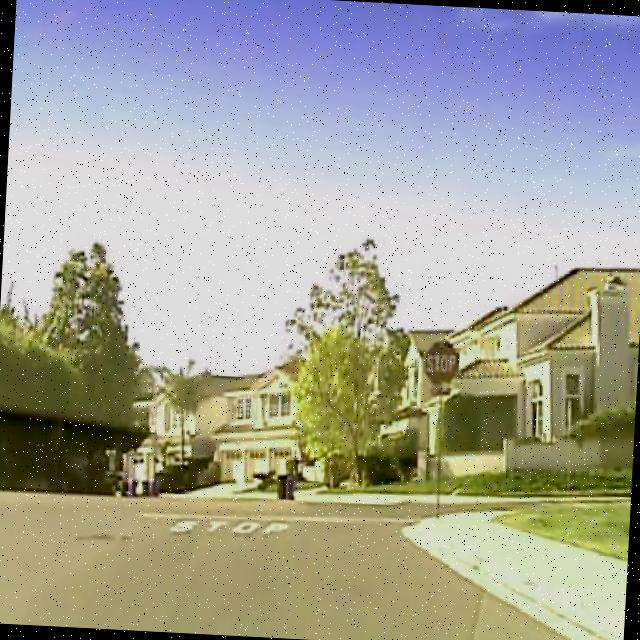Stop: (424, 341, 460, 386)
